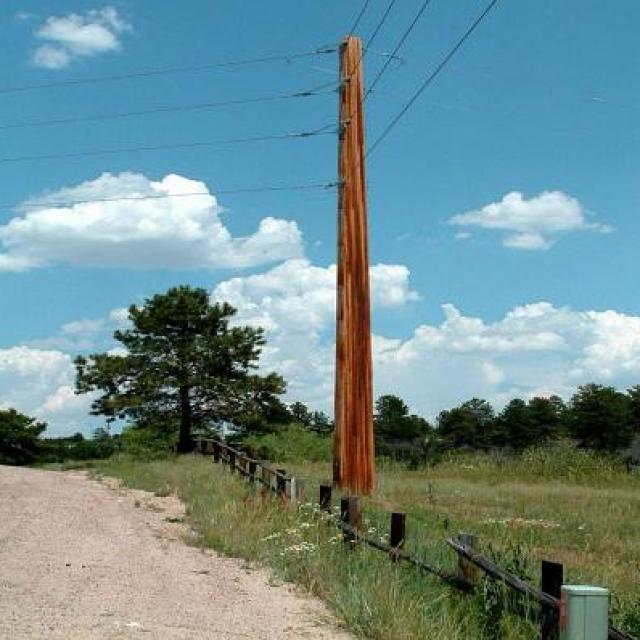non-critical vegetation: (283, 28, 431, 474)
